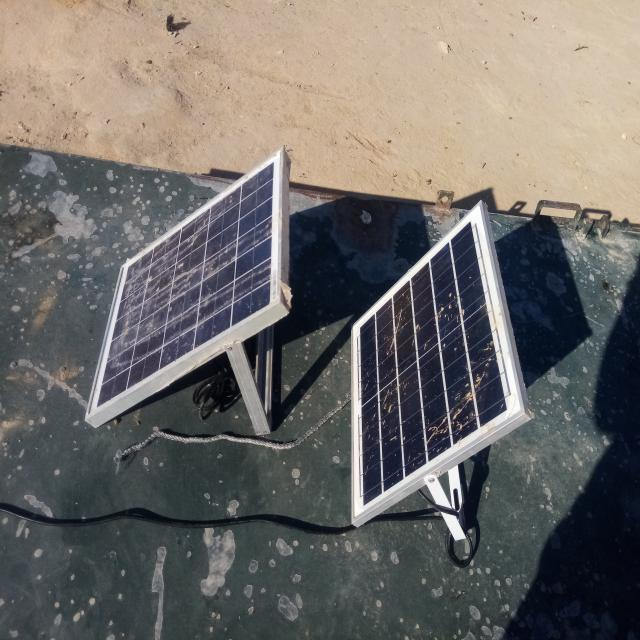faulty: (354, 202, 525, 519), (85, 149, 282, 414)
